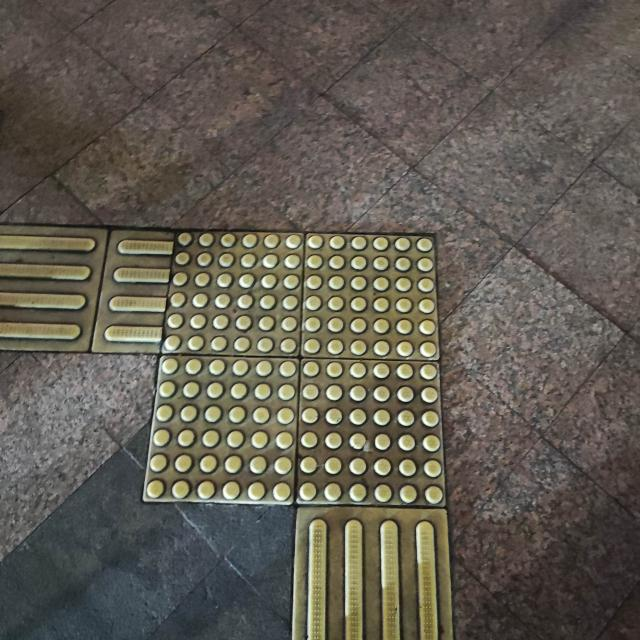kiri: (0, 208, 490, 638)
